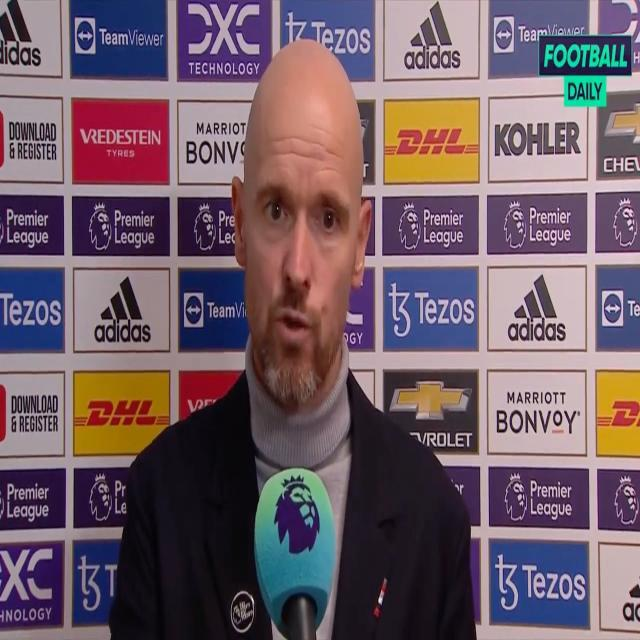Adidas: (507, 273, 568, 344), (93, 273, 152, 345), (404, 0, 461, 73)
Chevrolet: (390, 377, 473, 450)
Kohler: (493, 118, 582, 159)
TeamViewer: (76, 17, 164, 56)
